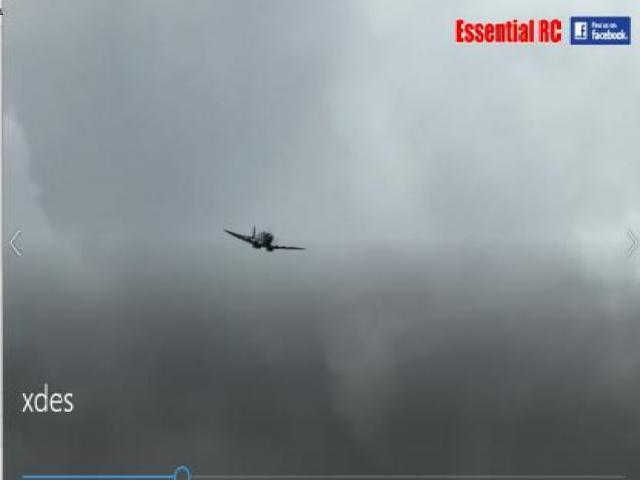uav: (223, 217, 311, 263)
